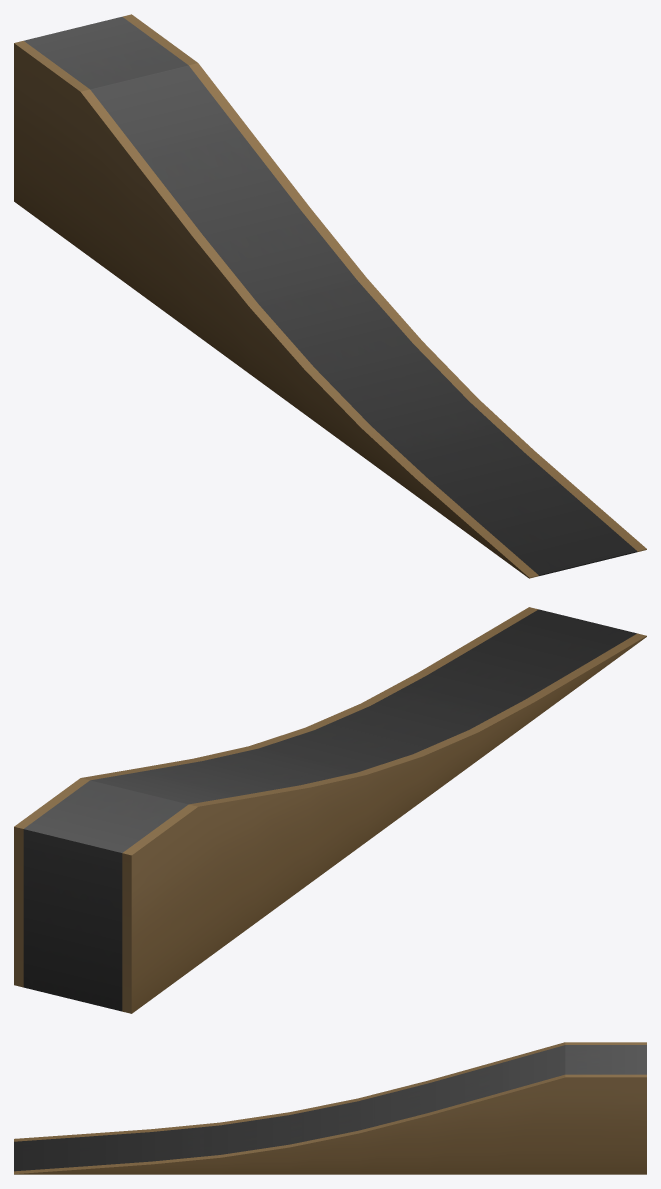
Rendered from C_long.fbx.
The picture shows the model from 3 angles, top to bottom: view 1: azimuth 30°, elevation 25°; view 2: azimuth 150°, elevation 25°; view 3: azimuth 270°, elevation 25°; orthographic projection. The views are drawn at different scales.
Parts seen in each view (by area): view 1: C_long; view 2: C_long; view 3: C_long.
Part boxes in pixels (x1,y1,x2,y2): C_long: [14, 14, 646, 578]; C_long: [14, 607, 646, 1013]; C_long: [14, 1042, 646, 1174].
Bounding box in the file's own units: 118 × 151 × 892.
